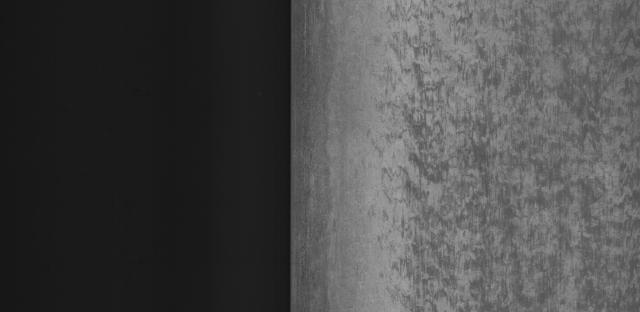silk_spot: (358, 6, 640, 300)
